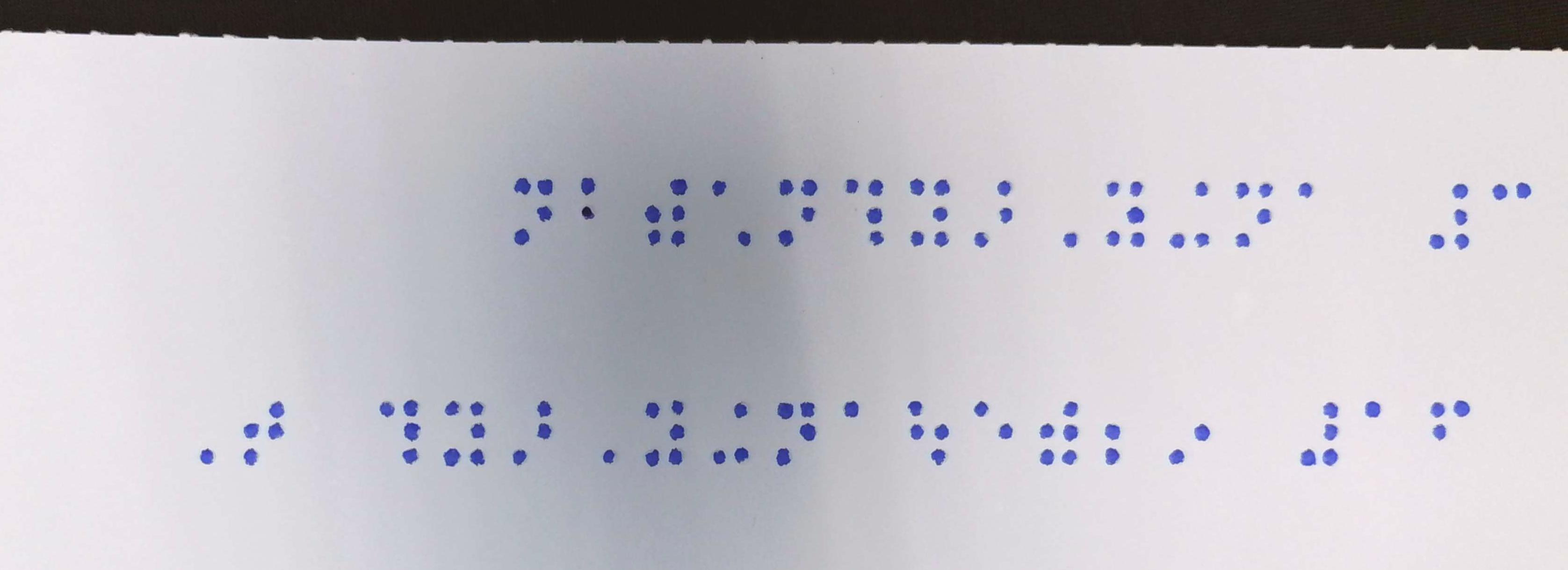braille_dot: (730, 398, 752, 421), (930, 204, 950, 224), (644, 205, 663, 223), (710, 178, 729, 196), (933, 180, 952, 198), (1129, 231, 1148, 249), (268, 402, 287, 420), (378, 402, 397, 420), (469, 400, 488, 418), (776, 448, 794, 467), (908, 424, 927, 442), (1104, 424, 1123, 442), (403, 422, 420, 442), (668, 422, 685, 442), (800, 422, 817, 442), (670, 178, 688, 196), (866, 207, 884, 225), (1127, 180, 1145, 198), (1127, 207, 1145, 225), (470, 424, 488, 442), (644, 449, 662, 467), (934, 424, 952, 442), (1301, 449, 1319, 467), (1323, 449, 1341, 467), (1323, 402, 1341, 420), (1431, 424, 1449, 442), (1452, 184, 1471, 201), (1491, 184, 1510, 201), (930, 448, 949, 465), (644, 400, 660, 420), (801, 400, 817, 420), (908, 400, 924, 420), (516, 178, 533, 196), (580, 178, 597, 196), (670, 231, 687, 249), (778, 229, 795, 247), (869, 229, 886, 247), (910, 231, 927, 249), (933, 231, 950, 249), (974, 231, 991, 249), (997, 180, 1014, 198), (1063, 231, 1080, 249), (1429, 233, 1447, 250), (243, 449, 260, 467), (268, 422, 285, 440), (405, 402, 422, 420), (511, 449, 528, 467), (778, 400, 795, 418), (1040, 422, 1057, 440), (1063, 402, 1080, 420), (1195, 424, 1212, 442), (1325, 424, 1342, 442), (1364, 402, 1381, 420), (1455, 400, 1472, 418), (1168, 233, 1185, 250), (1515, 184, 1532, 201), (1104, 448, 1121, 465), (539, 178, 555, 196), (514, 229, 530, 247), (671, 205, 687, 223), (779, 178, 795, 196), (911, 180, 927, 198), (1107, 231, 1123, 249), (445, 400, 461, 418), (470, 449, 486, 467), (538, 424, 554, 442), (844, 402, 862, 418), (1063, 422, 1079, 440), (1433, 402, 1449, 420), (580, 205, 597, 221), (801, 180, 818, 196), (867, 180, 884, 196), (1195, 233, 1212, 249), (1236, 184, 1253, 200), (1455, 233, 1471, 250), (245, 424, 262, 440), (538, 402, 555, 418), (668, 402, 685, 418), (736, 448, 752, 465), (968, 402, 985, 418), (1040, 449, 1057, 465), (1170, 449, 1187, 465), (648, 229, 663, 247), (737, 231, 752, 249), (999, 207, 1014, 225), (1106, 180, 1121, 198), (444, 449, 459, 467), (670, 449, 685, 467), (538, 207, 554, 223), (801, 207, 817, 223), (1257, 209, 1273, 225), (1259, 182, 1275, 198), (1298, 184, 1314, 200), (1453, 210, 1469, 226), (199, 449, 215, 465), (403, 449, 419, 465), (602, 449, 618, 465), (997, 424, 1013, 440), (1236, 233, 1251, 249), (714, 449, 729, 465), (1062, 449, 1077, 465), (1195, 184, 1212, 198), (845, 180, 859, 196)
